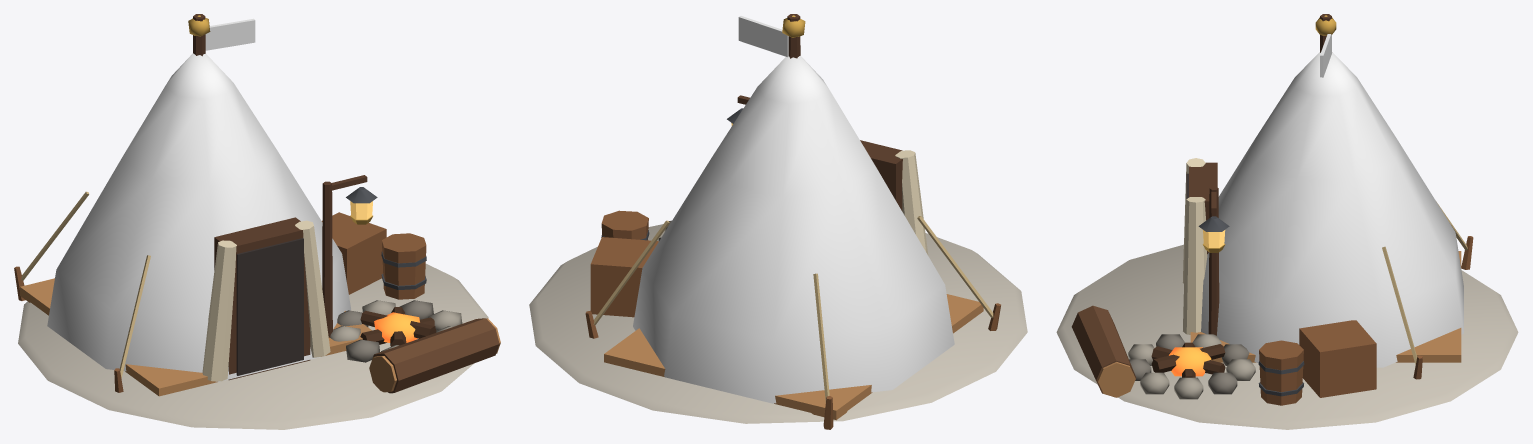
File: district-tier1.glb
3 renders of one model, left to right at view 1: azimuth 30°, elevation 25°; view 2: azimuth 150°, elevation 25°; view 3: azimuth 270°, elevation 25°, orthographic. The views are drawn at different scales.
Visible parts, largest first — view 1: Part_RoofTint, CampPad, TentInner, Part_WoodWarm, Part_Canvas, Part_TimberDark, LogBench, Part_WoodLight, Part_StoneDark, Part_StoneMid, Part_BarkDark, Part_Rope (+3 smaller); view 2: Part_RoofTint, CampPad, Part_WoodWarm, Part_WoodLight, Part_Rope, Part_TimberDark, Part_Canvas; view 3: Part_RoofTint, CampPad, Part_WoodWarm, Part_Canvas, Part_WoodLight, LogBench, Part_StoneMid, Part_TimberDark, Part_StoneDark, Part_BarkDark, EmberCore, Part_Iron (+1 smaller).
Boxes of the visible parts, bbox=[...] form: Part_RoofTint: bbox=[47, 18, 350, 381]; CampPad: bbox=[18, 263, 488, 429]; TentInner: bbox=[236, 238, 303, 375]; Part_WoodWarm: bbox=[14, 212, 426, 392]; Part_Canvas: bbox=[202, 220, 330, 381]; Part_TimberDark: bbox=[193, 14, 367, 380]; LogBench: bbox=[373, 318, 499, 393]; Part_WoodLight: bbox=[20, 278, 500, 396]; Part_StoneDark: bbox=[337, 300, 433, 362]; Part_StoneMid: bbox=[330, 300, 462, 351]; Part_BarkDark: bbox=[360, 307, 436, 346]; Part_Rope: bbox=[21, 191, 150, 378]; Part_RoofTint: bbox=[633, 16, 954, 403]; CampPad: bbox=[529, 224, 1027, 423]; Part_WoodWarm: bbox=[585, 210, 1000, 429]; Part_WoodLight: bbox=[604, 294, 983, 420]; Part_Rope: bbox=[593, 216, 993, 402]; Part_TimberDark: bbox=[737, 14, 902, 210]; Part_Canvas: bbox=[895, 150, 928, 255]; Part_RoofTint: bbox=[1201, 34, 1463, 367]; CampPad: bbox=[1056, 244, 1518, 429]; Part_WoodWarm: bbox=[1259, 236, 1473, 405]; Part_Canvas: bbox=[1182, 158, 1207, 334]; Part_WoodLight: bbox=[1097, 251, 1461, 397]; LogBench: bbox=[1071, 305, 1136, 397]; Part_StoneMid: bbox=[1128, 334, 1255, 399]; Part_TimberDark: bbox=[1189, 14, 1331, 335]; Part_StoneDark: bbox=[1129, 334, 1249, 394]; Part_BarkDark: bbox=[1151, 342, 1225, 377]; EmberCore: bbox=[1169, 347, 1211, 376]; Part_Iron: bbox=[1198, 216, 1304, 396].
Bounding box in the file's own units: 3.84 × 2.78 × 3.84.
